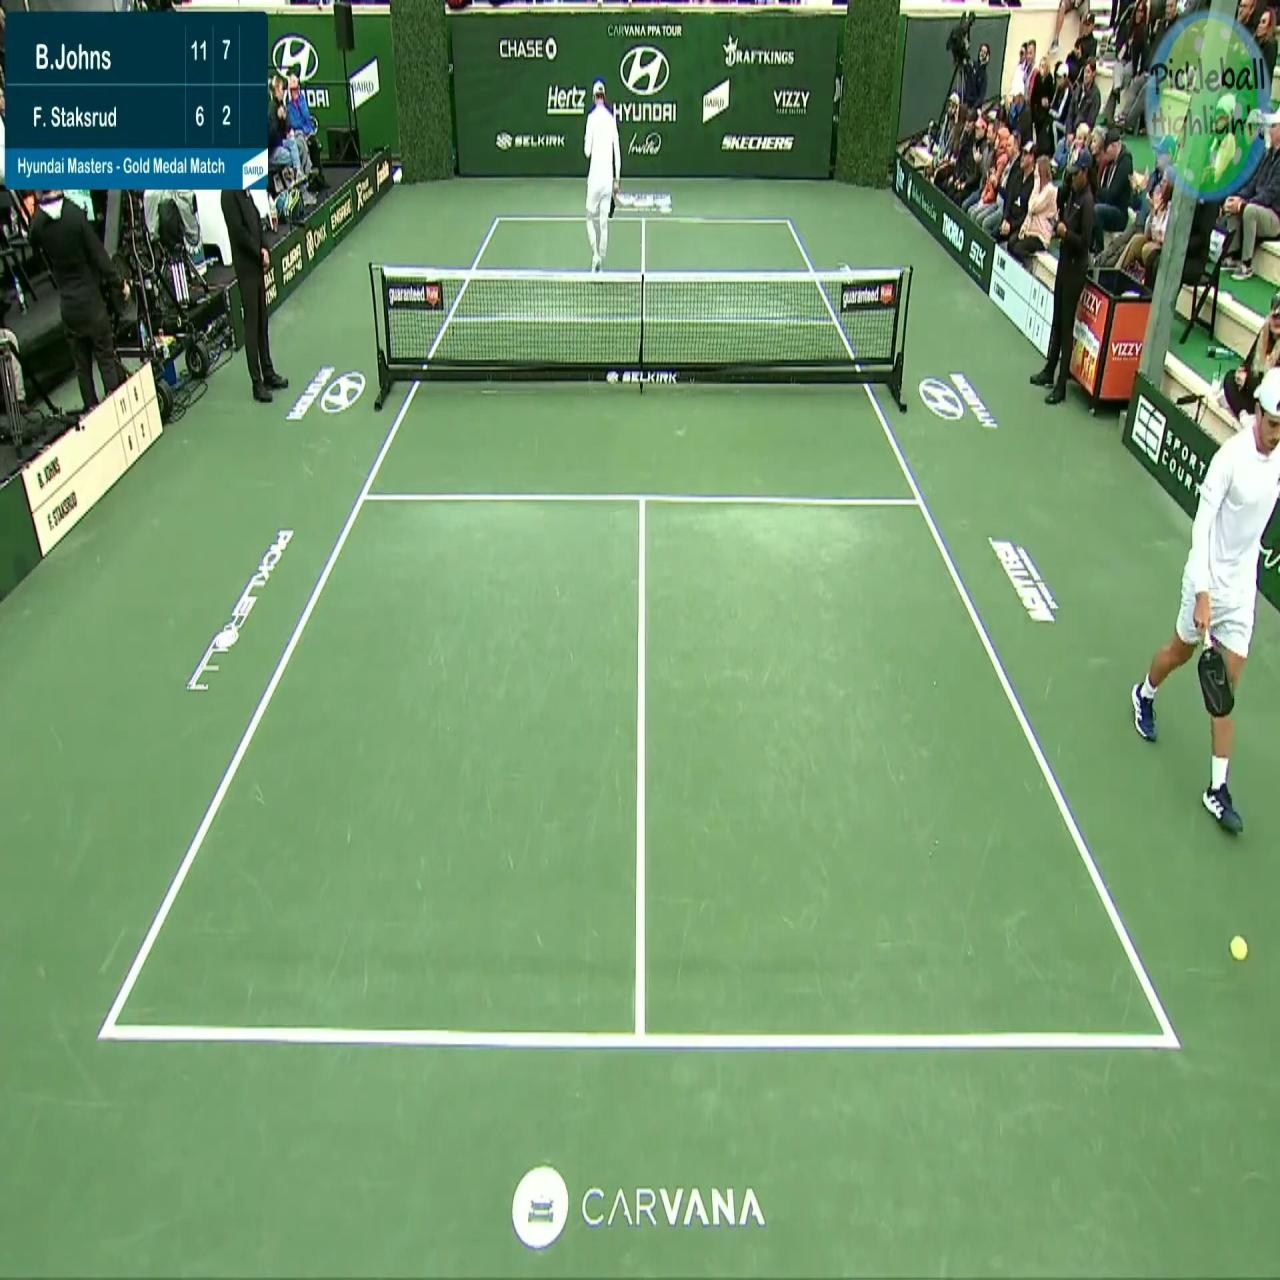pickleball: (1228, 934, 1247, 962)
